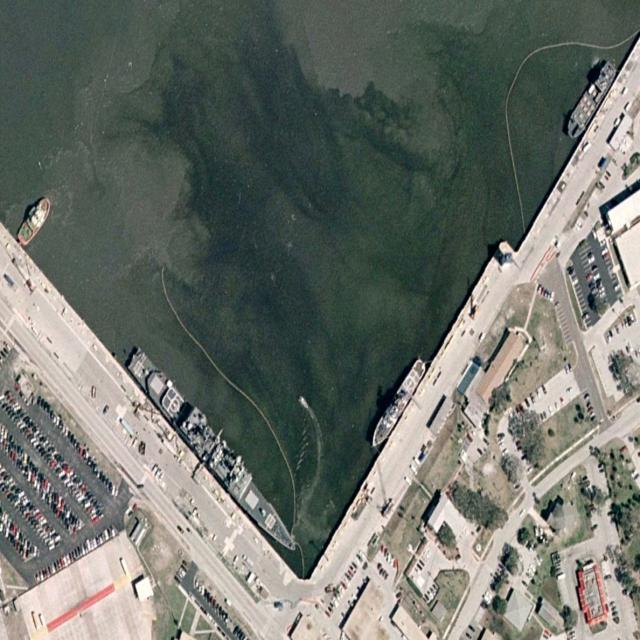Cruiser: (124, 341, 305, 562)
Hovercraft: (14, 190, 54, 250)
Other Ship: (367, 354, 428, 456), (562, 56, 620, 144)
